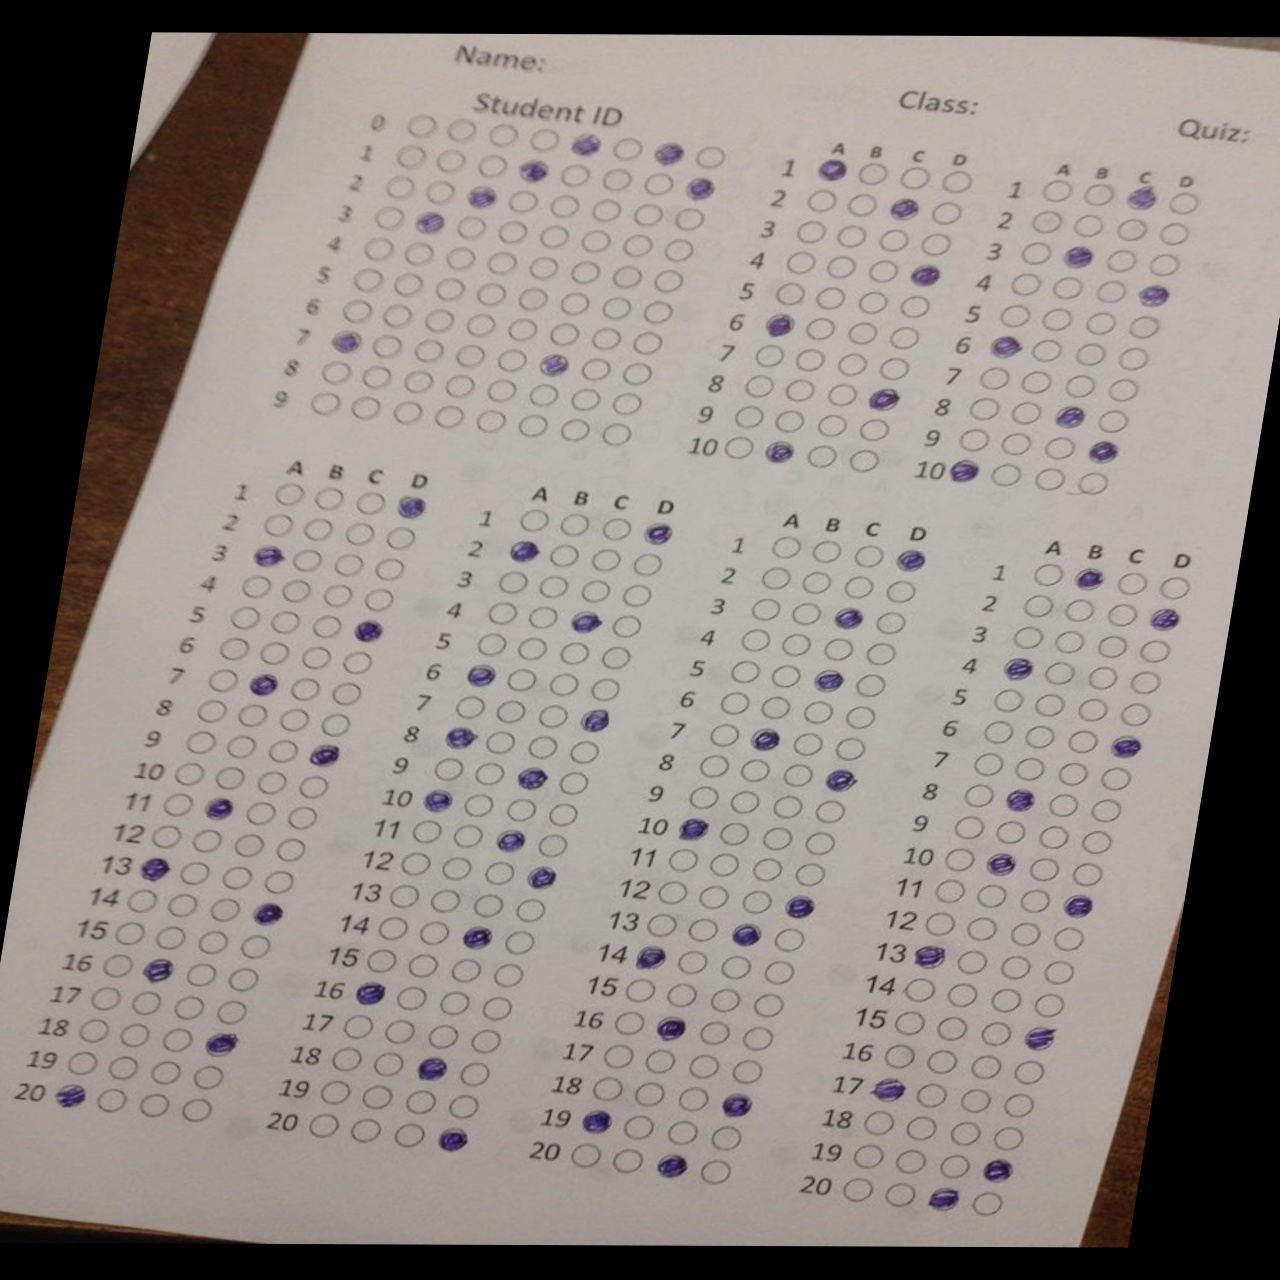not-c: (966, 1187, 1008, 1219), (694, 1156, 735, 1187), (879, 1178, 920, 1210), (952, 946, 993, 976), (890, 1146, 932, 1176), (770, 925, 813, 953), (847, 1142, 888, 1171), (955, 1085, 996, 1115), (937, 1150, 975, 1180), (933, 1013, 972, 1043), (996, 953, 1036, 982), (940, 844, 980, 873), (716, 953, 757, 981), (946, 1119, 987, 1148), (921, 1047, 962, 1075), (1009, 755, 1051, 782), (557, 159, 595, 189), (640, 1047, 679, 1076), (1026, 855, 1064, 884), (1044, 791, 1083, 821), (704, 849, 744, 877), (879, 1042, 919, 1070), (1053, 760, 1092, 788), (662, 981, 703, 1008), (1009, 1058, 1050, 1085), (942, 982, 983, 1009), (1048, 926, 1089, 953), (949, 813, 990, 840), (622, 975, 660, 1005), (611, 1008, 648, 1037), (978, 1017, 1015, 1047), (425, 887, 464, 915), (838, 703, 880, 729), (738, 1024, 777, 1053), (1156, 574, 1194, 602), (461, 311, 501, 338), (810, 799, 850, 826), (790, 862, 830, 888), (608, 1148, 648, 1175), (967, 1054, 1007, 1081), (406, 951, 442, 980), (758, 824, 795, 853), (1039, 960, 1080, 986), (660, 236, 697, 264), (767, 533, 804, 561), (708, 1123, 745, 1151), (840, 1175, 878, 1203), (903, 1114, 940, 1142), (912, 1081, 949, 1109), (435, 989, 474, 1016), (685, 915, 723, 942), (760, 958, 798, 985), (890, 1009, 928, 1036), (986, 986, 1024, 1013), (1085, 798, 1124, 825), (1114, 345, 1152, 372), (813, 282, 849, 312), (993, 817, 1028, 846), (802, 188, 842, 213), (748, 857, 788, 883), (435, 147, 471, 175), (505, 186, 542, 215), (339, 520, 375, 549), (478, 995, 515, 1023), (675, 1085, 712, 1114), (93, 1085, 130, 1112), (545, 670, 583, 697), (359, 1083, 396, 1110), (695, 883, 733, 910), (620, 1114, 658, 1141), (933, 877, 971, 904), (1069, 862, 1107, 888), (1036, 824, 1074, 851), (995, 302, 1033, 329), (87, 987, 125, 1013), (965, 396, 1003, 422), (206, 896, 241, 924), (105, 1054, 141, 1082), (747, 595, 787, 620), (318, 712, 354, 738), (836, 350, 872, 377), (598, 644, 634, 670), (686, 1053, 722, 1080), (590, 1075, 626, 1102), (990, 1124, 1027, 1151), (1032, 990, 1068, 1017), (1080, 828, 1116, 855), (1030, 560, 1067, 587), (1114, 570, 1150, 597), (978, 365, 1014, 392), (554, 291, 592, 316), (420, 308, 457, 334), (628, 331, 666, 356), (318, 584, 355, 610), (588, 675, 626, 701), (535, 833, 572, 859), (716, 821, 754, 846), (738, 888, 776, 914), (1007, 920, 1044, 946), (1074, 697, 1111, 723), (1156, 220, 1193, 246), (1094, 279, 1131, 305), (1062, 373, 1099, 399), (1074, 469, 1111, 495), (260, 512, 294, 540), (447, 1092, 481, 1121), (903, 976, 937, 1005), (640, 172, 679, 197), (482, 250, 520, 274), (339, 298, 377, 322), (802, 830, 840, 855), (1098, 767, 1137, 791), (1017, 369, 1056, 394), (400, 241, 435, 268), (504, 316, 539, 343), (212, 764, 247, 791), (919, 230, 954, 257), (535, 573, 570, 600), (557, 640, 592, 667), (495, 697, 530, 724), (424, 1023, 459, 1050), (667, 845, 702, 872), (751, 990, 787, 1017), (696, 1019, 731, 1046), (632, 1080, 667, 1107), (567, 1141, 602, 1167), (862, 1108, 897, 1135), (971, 751, 1006, 778), (360, 236, 396, 261), (373, 557, 409, 583), (297, 647, 333, 673), (117, 1022, 154, 1048), (887, 325, 924, 350), (813, 411, 850, 437), (459, 792, 496, 818), (456, 1061, 492, 1087), (316, 1078, 353, 1104), (779, 631, 816, 656), (716, 690, 753, 716), (655, 879, 692, 905), (665, 1119, 701, 1145), (1000, 1094, 1036, 1119), (964, 915, 1000, 941), (961, 782, 998, 808), (1104, 601, 1141, 627), (1126, 314, 1163, 340), (1029, 338, 1065, 363), (639, 300, 679, 324), (223, 968, 263, 992), (429, 277, 467, 301), (368, 333, 406, 358), (306, 392, 343, 416), (599, 421, 636, 445), (930, 200, 967, 225), (857, 290, 894, 314), (629, 550, 667, 574), (524, 735, 561, 760), (388, 1123, 425, 1148), (708, 987, 745, 1012), (974, 884, 1012, 908), (1020, 592, 1057, 617), (1039, 307, 1076, 332), (1032, 467, 1069, 491), (443, 115, 477, 142), (486, 122, 520, 149), (610, 392, 644, 418), (340, 651, 374, 678), (165, 892, 199, 919), (75, 1017, 109, 1044), (139, 1090, 173, 1117), (181, 1096, 215, 1123), (794, 346, 828, 373), (556, 770, 590, 797), (377, 915, 411, 942), (404, 1087, 438, 1114), (802, 699, 836, 726), (922, 910, 956, 937), (422, 178, 457, 204), (629, 203, 665, 229), (377, 302, 416, 326), (472, 409, 508, 435), (266, 738, 301, 764), (193, 930, 232, 953), (156, 1028, 195, 1051), (940, 168, 975, 193), (557, 512, 595, 536), (598, 516, 633, 542), (410, 818, 445, 844), (448, 958, 483, 983), (730, 1058, 765, 1084), (1017, 888, 1053, 914), (1128, 670, 1163, 696), (1114, 216, 1149, 241), (956, 427, 992, 452), (1042, 435, 1077, 461), (403, 114, 440, 138), (598, 166, 634, 191), (450, 343, 486, 368), (316, 359, 353, 383), (192, 699, 229, 723), (171, 995, 207, 1020), (846, 449, 883, 474), (338, 1015, 374, 1040), (644, 912, 680, 937), (1029, 210, 1065, 234), (1103, 248, 1139, 273), (124, 888, 157, 915), (570, 738, 602, 765), (547, 195, 585, 218), (535, 225, 572, 248), (619, 361, 656, 384), (482, 379, 519, 402), (350, 491, 388, 515), (261, 870, 299, 893), (183, 964, 220, 987), (495, 568, 532, 592), (579, 579, 617, 602), (619, 585, 656, 608), (471, 761, 509, 784), (272, 481, 306, 506), (774, 282, 808, 308), (753, 342, 787, 368), (418, 920, 452, 946), (493, 962, 527, 988), (982, 719, 1016, 744), (1087, 666, 1121, 692), (612, 135, 647, 159), (651, 270, 686, 294), (567, 387, 602, 411), (275, 707, 311, 731), (224, 734, 259, 758), (295, 776, 331, 801), (149, 823, 184, 847), (232, 833, 267, 858), (273, 839, 308, 864), (772, 408, 808, 433), (805, 444, 840, 469), (327, 1047, 362, 1071), (370, 1051, 406, 1076), (347, 1117, 382, 1142), (799, 571, 835, 595), (865, 644, 900, 668), (674, 949, 709, 974), (1023, 723, 1058, 748), (1033, 693, 1068, 717), (1061, 598, 1096, 622), (1146, 252, 1182, 277), (1105, 377, 1141, 402), (881, 579, 920, 601), (735, 760, 774, 782), (383, 1019, 415, 1046), (692, 145, 728, 169), (382, 173, 418, 197), (588, 198, 625, 222), (358, 363, 394, 387), (284, 806, 320, 830), (98, 953, 135, 976), (128, 990, 164, 1014), (825, 383, 862, 407), (720, 437, 756, 461), (515, 636, 551, 660), (535, 704, 571, 728), (512, 899, 549, 922), (789, 731, 825, 755), (1042, 661, 1078, 685), (392, 400, 424, 425), (206, 667, 239, 693), (475, 632, 508, 658), (454, 694, 486, 720), (1082, 182, 1115, 207), (568, 259, 602, 284), (610, 265, 644, 290), (431, 404, 465, 429), (217, 636, 251, 661), (327, 682, 361, 707), (877, 227, 911, 252), (506, 668, 540, 693), (471, 894, 505, 919), (1051, 629, 1085, 654), (372, 206, 409, 229), (237, 574, 274, 597), (358, 588, 395, 611), (482, 730, 519, 753), (304, 1114, 341, 1136), (1082, 313, 1119, 335), (577, 229, 612, 252), (349, 268, 384, 292), (409, 338, 444, 361), (526, 383, 561, 407), (558, 417, 593, 441), (384, 525, 420, 549), (241, 802, 277, 825), (177, 862, 212, 885), (154, 926, 189, 949), (66, 1050, 101, 1074), (254, 771, 290, 795), (784, 252, 819, 275), (547, 543, 583, 566), (397, 851, 433, 874), (810, 539, 845, 563), (738, 629, 774, 653), (819, 636, 855, 660), (852, 672, 887, 695), (600, 1046, 635, 1069), (1095, 635, 1130, 659), (1136, 640, 1171, 663), (1071, 215, 1107, 238), (1096, 409, 1131, 433), (672, 209, 710, 230), (288, 678, 320, 703), (806, 316, 838, 342), (855, 418, 893, 440), (790, 601, 822, 627), (474, 154, 510, 176), (442, 247, 478, 270), (591, 328, 627, 350), (493, 350, 530, 373), (832, 225, 869, 247), (833, 737, 870, 760), (189, 828, 222, 852), (217, 1000, 250, 1024), (527, 605, 560, 629), (760, 694, 792, 719), (1009, 400, 1042, 424), (518, 286, 552, 309), (402, 368, 436, 392), (309, 488, 343, 511), (279, 579, 313, 602), (220, 865, 254, 888), (148, 1060, 182, 1083), (795, 219, 829, 243), (501, 932, 535, 955), (365, 949, 399, 973), (467, 1029, 501, 1053), (757, 566, 791, 590), (1012, 626, 1046, 649), (1073, 343, 1107, 367), (999, 433, 1033, 456), (527, 254, 563, 277), (392, 274, 427, 297), (349, 397, 384, 420), (332, 553, 367, 576), (170, 764, 205, 787), (878, 358, 913, 380), (547, 804, 583, 826), (707, 724, 742, 747), (1065, 730, 1101, 753), (1165, 192, 1200, 215), (1050, 277, 1085, 299), (229, 605, 260, 629), (268, 612, 300, 636), (898, 166, 930, 191), (454, 216, 486, 239), (443, 374, 476, 397), (291, 549, 324, 572), (185, 733, 218, 756), (162, 794, 195, 817), (239, 933, 272, 956), (867, 259, 900, 282), (590, 549, 622, 572), (486, 600, 519, 624), (440, 857, 472, 880), (387, 885, 420, 908), (396, 988, 429, 1012), (852, 544, 885, 567), (874, 611, 907, 634), (771, 663, 804, 687), (782, 764, 815, 788), (770, 796, 803, 819), (992, 688, 1024, 712), (394, 145, 430, 166), (621, 234, 658, 256), (599, 297, 635, 318), (113, 922, 147, 945), (518, 413, 549, 437), (530, 127, 561, 150), (497, 220, 532, 241), (257, 644, 292, 665), (825, 256, 857, 279), (1117, 704, 1152, 726), (312, 614, 345, 636), (192, 1067, 225, 1089), (846, 195, 879, 217), (784, 380, 817, 402), (733, 404, 765, 427), (452, 825, 485, 847), (687, 787, 720, 809), (1041, 181, 1074, 203), (1019, 241, 1051, 264), (1009, 273, 1042, 295), (988, 464, 1021, 486), (840, 577, 877, 597), (474, 282, 508, 304), (517, 511, 551, 532), (610, 615, 644, 636), (729, 792, 763, 813), (857, 162, 887, 185), (730, 660, 761, 683), (847, 321, 879, 343), (484, 862, 516, 884), (549, 324, 581, 345), (434, 758, 467, 779), (697, 756, 730, 777), (304, 518, 333, 542), (743, 376, 777, 396), (581, 358, 613, 379), (237, 704, 268, 726), (899, 295, 931, 316), (506, 799, 537, 821)
taken-c: (319, 328, 365, 358), (390, 492, 433, 520), (247, 899, 286, 928), (573, 704, 613, 733), (716, 1089, 756, 1117), (1020, 1022, 1060, 1050), (821, 767, 862, 794), (651, 1151, 692, 1178), (532, 354, 574, 380), (810, 156, 849, 184), (867, 1076, 907, 1103), (629, 945, 670, 971), (1050, 403, 1088, 431), (245, 670, 282, 699), (50, 1081, 88, 1109), (350, 979, 388, 1007), (418, 785, 456, 813), (1001, 785, 1039, 813), (864, 384, 903, 411), (442, 724, 481, 751), (577, 1107, 615, 1133), (1107, 733, 1145, 760), (1132, 284, 1172, 309), (433, 1126, 472, 1152), (413, 1055, 449, 1083), (1060, 244, 1097, 271), (987, 333, 1024, 360), (135, 855, 172, 881), (922, 1184, 960, 1211), (349, 618, 388, 644), (1122, 184, 1162, 209), (250, 544, 290, 568), (410, 209, 447, 236), (512, 765, 549, 792), (893, 546, 930, 573), (652, 1015, 688, 1042), (680, 175, 717, 200), (905, 264, 942, 290), (761, 438, 798, 464), (200, 795, 238, 821), (139, 956, 177, 982), (457, 924, 495, 949), (728, 921, 765, 947), (978, 1157, 1015, 1183), (910, 944, 947, 969), (1000, 655, 1037, 681), (1148, 605, 1182, 633), (568, 608, 606, 633), (782, 894, 819, 919), (1058, 893, 1096, 918), (463, 660, 497, 687), (651, 141, 686, 166), (200, 1032, 239, 1055), (747, 726, 782, 751), (508, 537, 544, 561), (675, 816, 712, 840), (306, 742, 343, 765), (886, 195, 921, 219), (831, 605, 866, 629), (761, 313, 797, 336), (1084, 438, 1121, 462), (516, 157, 550, 182), (808, 669, 845, 692), (946, 457, 981, 481), (520, 864, 556, 887), (639, 520, 674, 544), (983, 852, 1017, 874), (1073, 567, 1107, 590), (464, 183, 495, 207), (568, 131, 600, 155), (493, 828, 526, 850)
